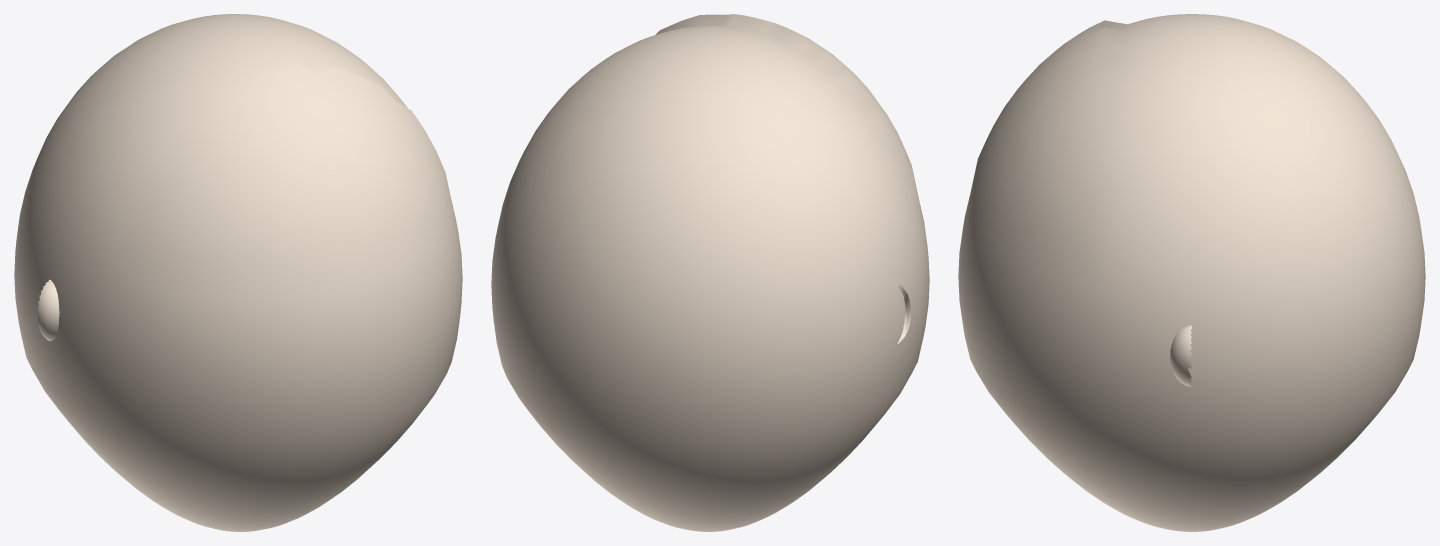
The model's file is minimal_head.glb.
3 views of the same model, side by side, from view 1: azimuth 30°, elevation 25°; view 2: azimuth 150°, elevation 25°; view 3: azimuth 270°, elevation 25° (orthographic). The views are drawn at different scales.
Visible parts, largest first — view 1: Head; view 2: Head; view 3: Head.
Boxes of the visible parts, <box> form: Head: <box>14,14,462,531</box>; Head: <box>491,14,929,531</box>; Head: <box>958,14,1425,531</box>.
Size of the model in its own units: 1.64 by 1.9 by 1.64.
